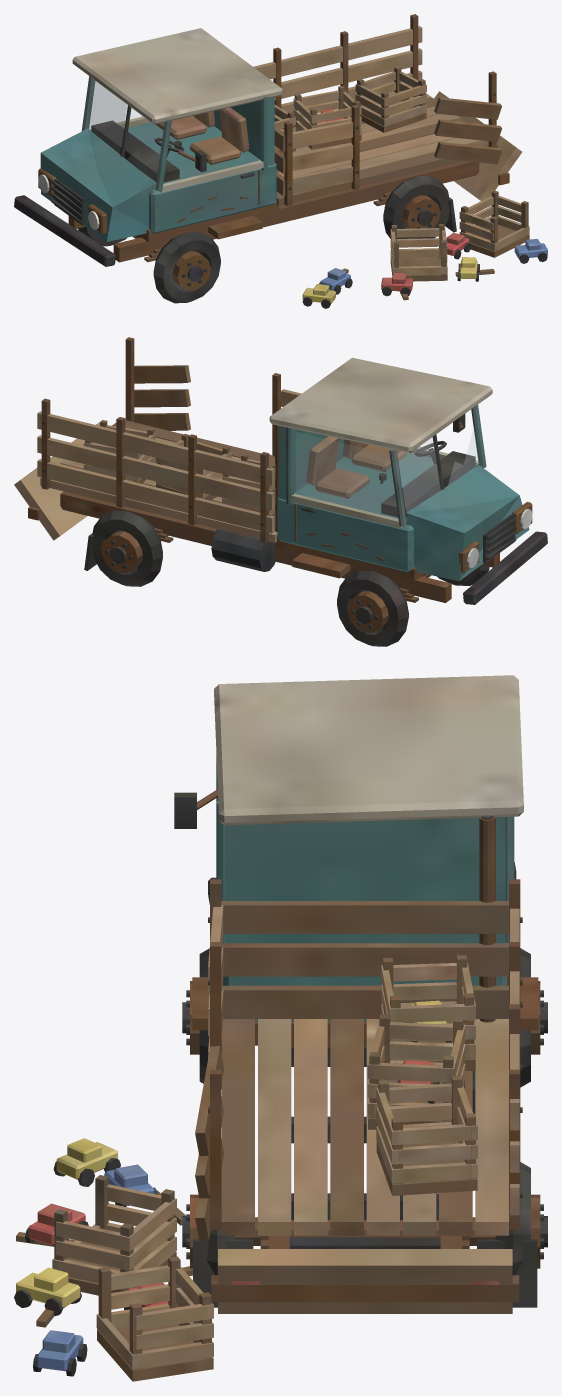
File: JV09_wrecked_truck_v1.glb
The picture shows the model from 3 angles, top to bottom: view 1: azimuth 30°, elevation 25°; view 2: azimuth 150°, elevation 25°; view 3: azimuth 270°, elevation 25°; orthographic projection. The views are drawn at different scales.
Parts seen in each view (by area): view 1: Ladder chassis left; view 2: Ladder chassis left; view 3: Ladder chassis left.
Boxes of the visible parts, x1,y1,x2,y2 form: Ladder chassis left: [14, 14, 547, 308]; Ladder chassis left: [14, 337, 547, 646]; Ladder chassis left: [14, 675, 547, 1381].
Size of the model in its own units: 7 by 3.06 by 3.93.
14 materials, 13 textured.
